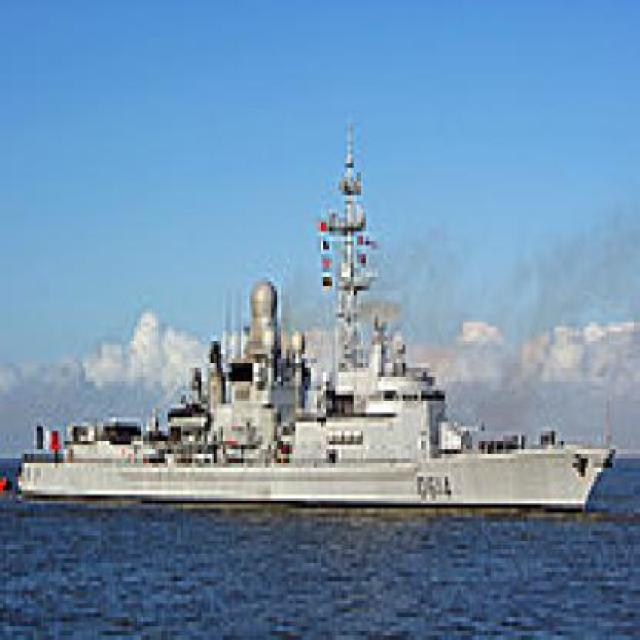warship2: (11, 114, 617, 523)
